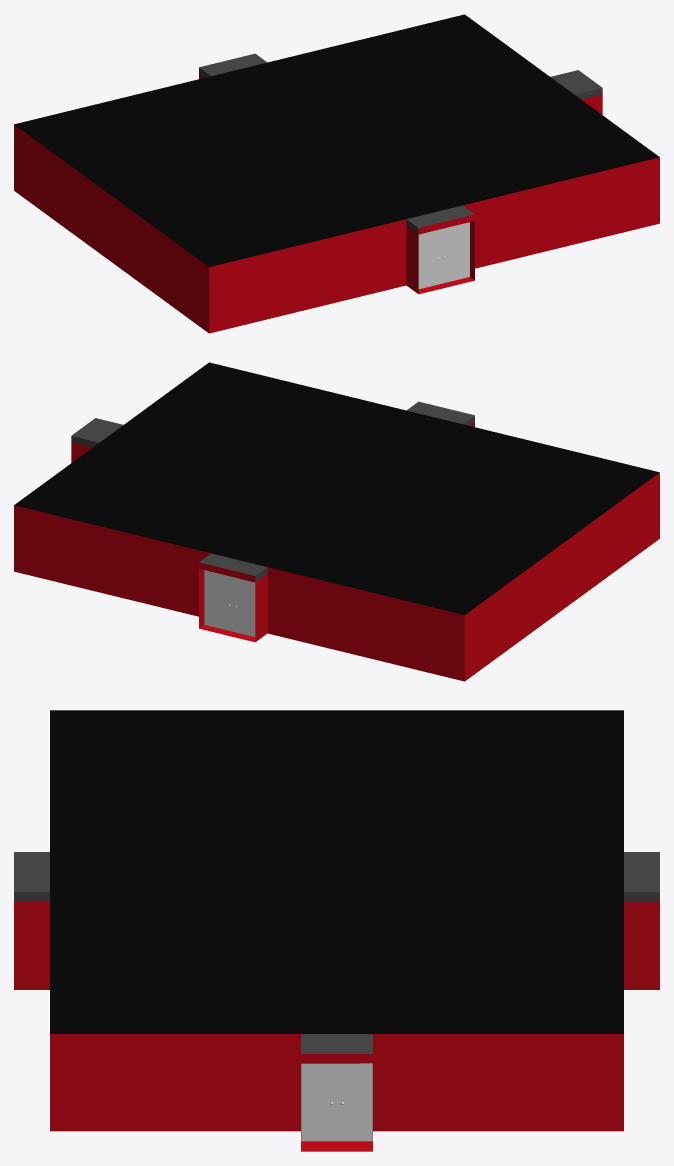
File: Spawnroom.fbx
3 renders of one model, top to bottom at view 1: azimuth 30°, elevation 25°; view 2: azimuth 150°, elevation 25°; view 3: azimuth 270°, elevation 25°, orthographic. The views are drawn at different scales.
Visible parts, largest first — view 1: Plane.001, Cube.001, Cube; view 2: Plane.001, Cube.002, Cube.003; view 3: Plane.001, Cube.004, Cube.005.
Boxes of the visible parts, x1,y1,x2,y2 form: Plane.001: [14, 14, 659, 333]; Cube.001: [441, 222, 469, 283]; Cube: [418, 229, 441, 289]; Plane.001: [14, 362, 659, 681]; Cube.002: [204, 570, 232, 631]; Cube.003: [232, 577, 255, 636]; Plane.001: [14, 710, 659, 1151]; Cube.004: [336, 1063, 372, 1141]; Cube.005: [301, 1063, 336, 1141].
Bounding box in the file's own units: 3022 × 400 × 2400.
